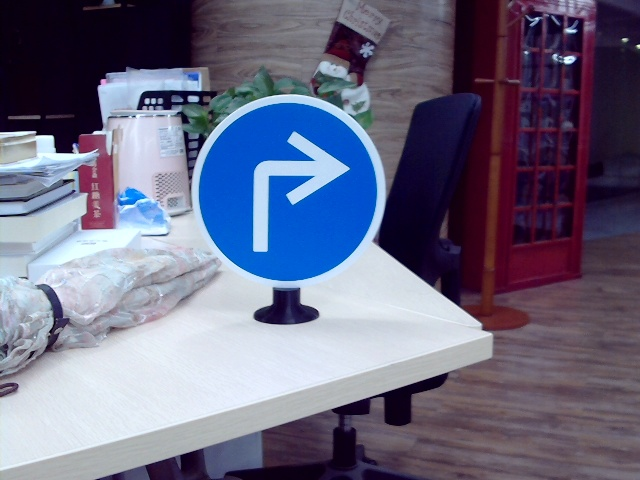turn_right: (236, 128, 352, 252)
